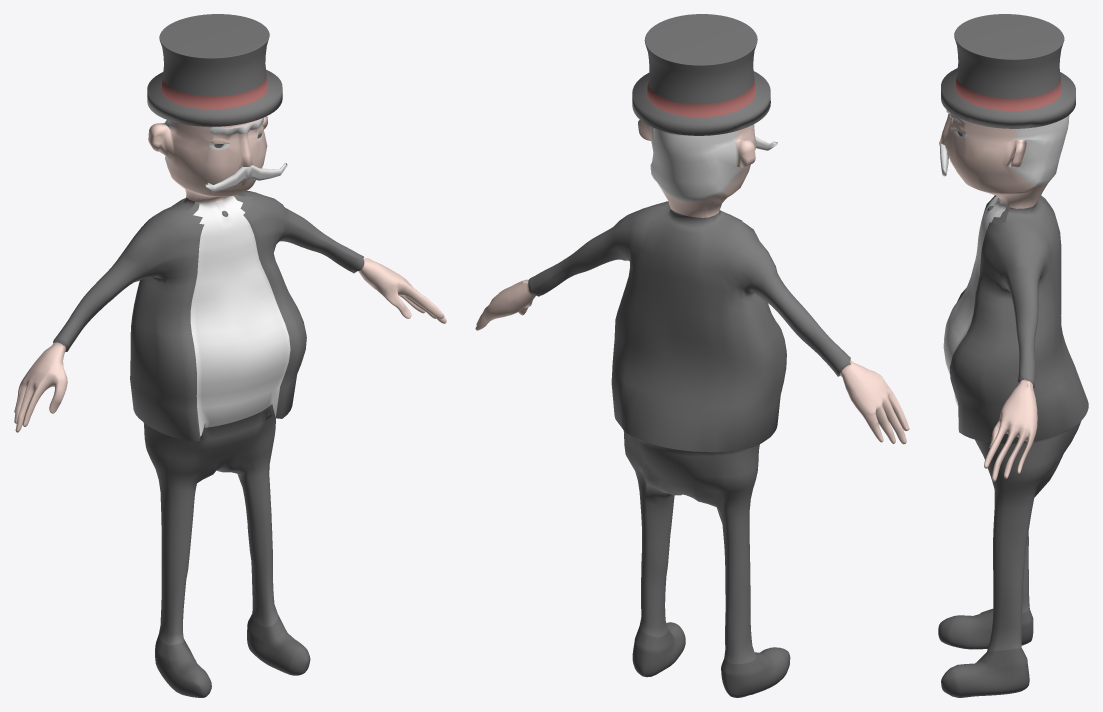
The model's file is smooth_bey2.fbx.
3 views of the same model, side by side, from view 1: azimuth 30°, elevation 25°; view 2: azimuth 150°, elevation 25°; view 3: azimuth 270°, elevation 25° (orthographic). The views are drawn at different scales.
Parts seen in each view (by area): view 1: stickman; view 2: stickman; view 3: stickman.
Part boxes in pixels (x1,y1,x2,y2): stickman: (14,14,446,697); stickman: (475,14,909,697); stickman: (938,14,1088,697).
Size of the model in its own units: 116 by 167 by 35.82.
